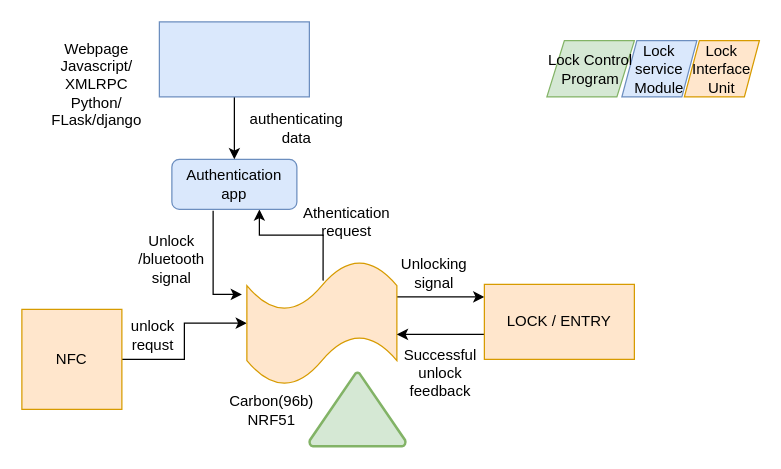
This 781x469 diagram has some shape labels left out. Each missing label, with the box of its shape:
Gateway web/app: (158, 21, 309, 97)
Microcontroller: (246, 259, 397, 386)
Zephyr Bluetooth: (308, 371, 406, 447)
